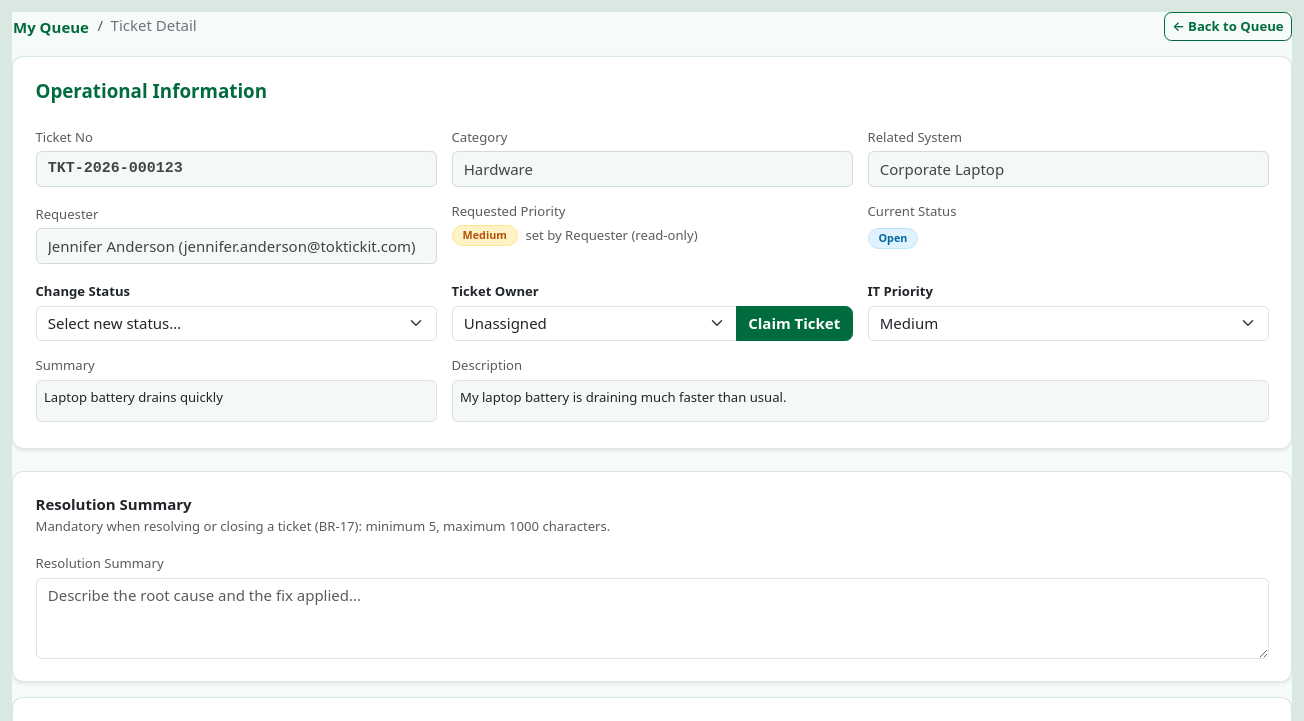
Scenario: StaffTicketDetail Screen — IT Staff control panel (/staff/tickets/:id) › requires a resolution summary before resolving (BR-17)
Select "Resolved" in the dropdown labelled "Change Status" at (236,323), box [36,306,436,341]
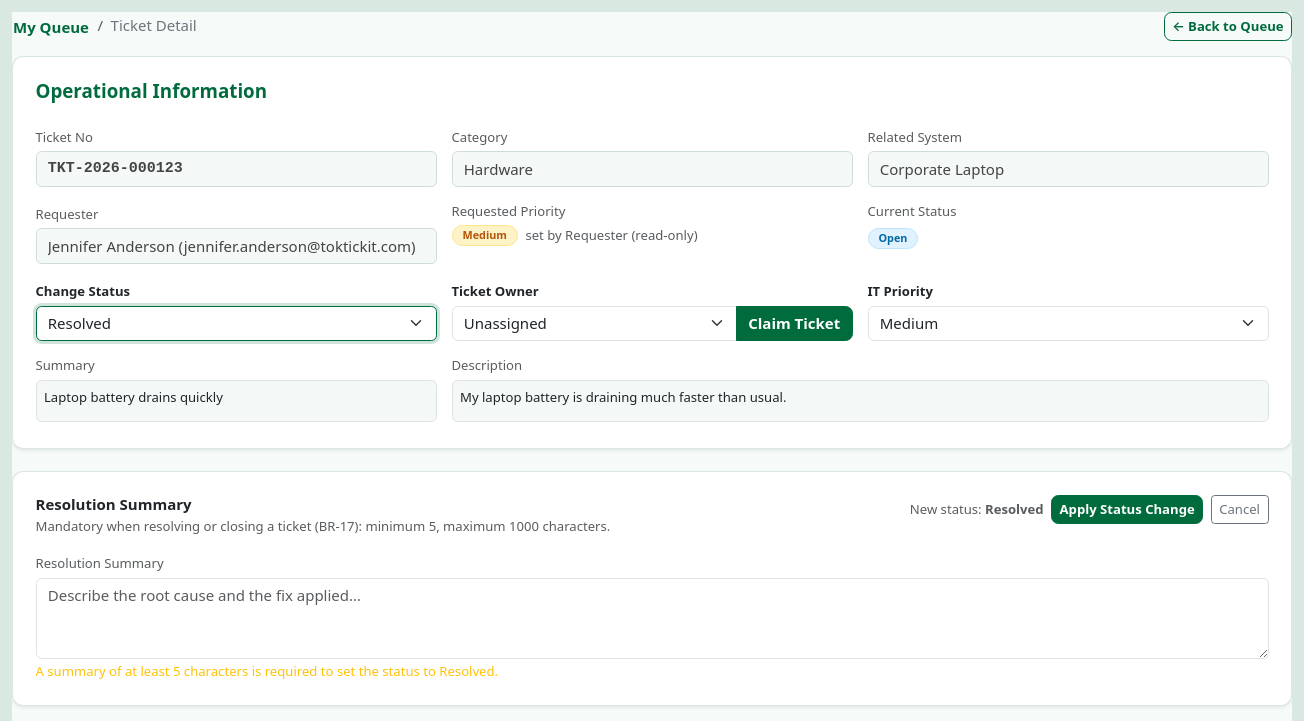
Click the button "Apply Status Change".
click(1127, 510)  # box [1051,495,1203,524]
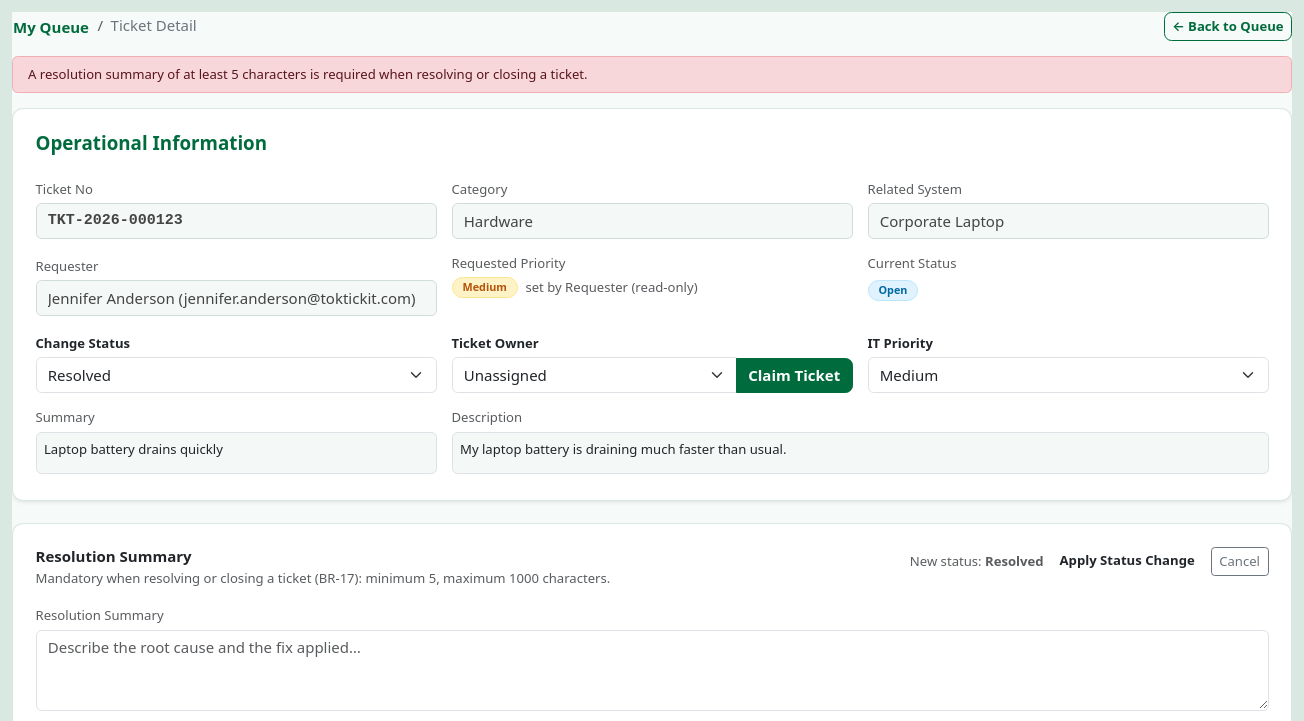
Expected: the message with test id "staff-action-error" shows "resolution summary", [28,65,588,83]
Note: Supplying a valid summary unblocks the transition.
Type "Replaced faulty battery cell and updated the driver." into the text box labelled "Resolution Summary".
click(652, 670); type("Replaced faulty battery cell and updated the driver.")  # box [36,630,1268,710]
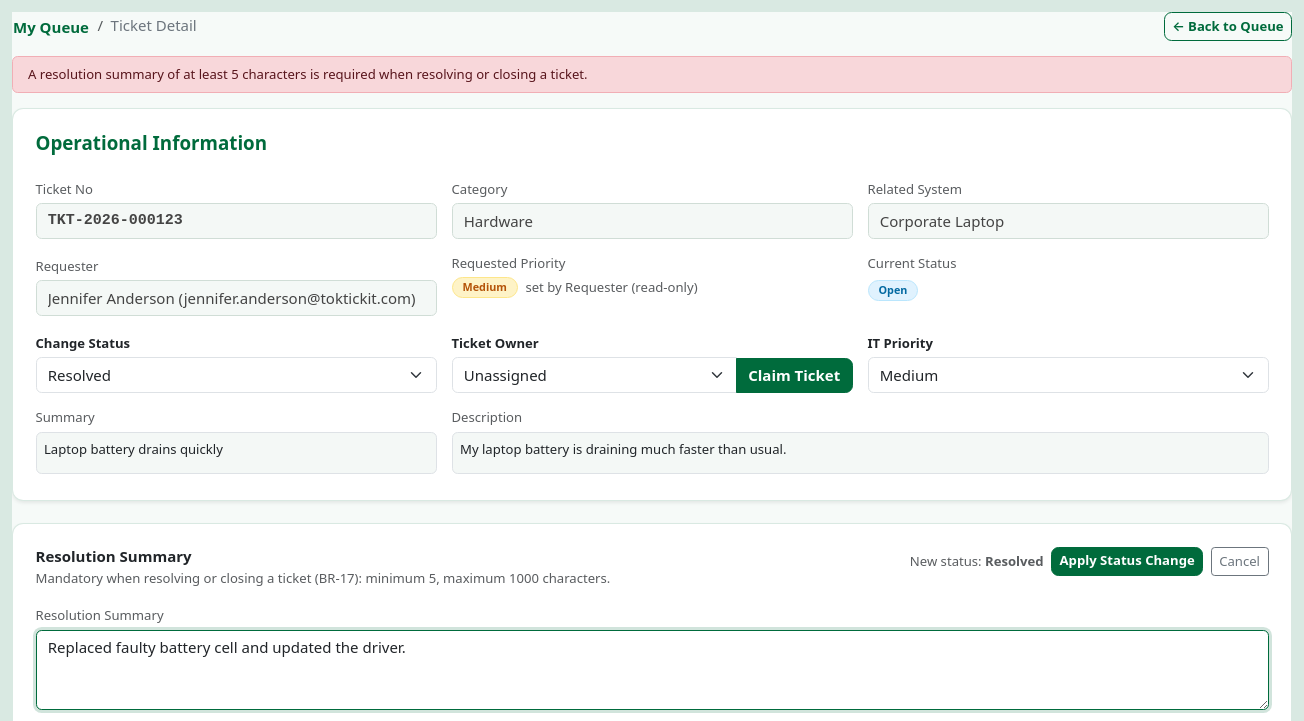
Click the button "Apply Status Change".
click(1127, 561)  # box [1051,547,1203,576]
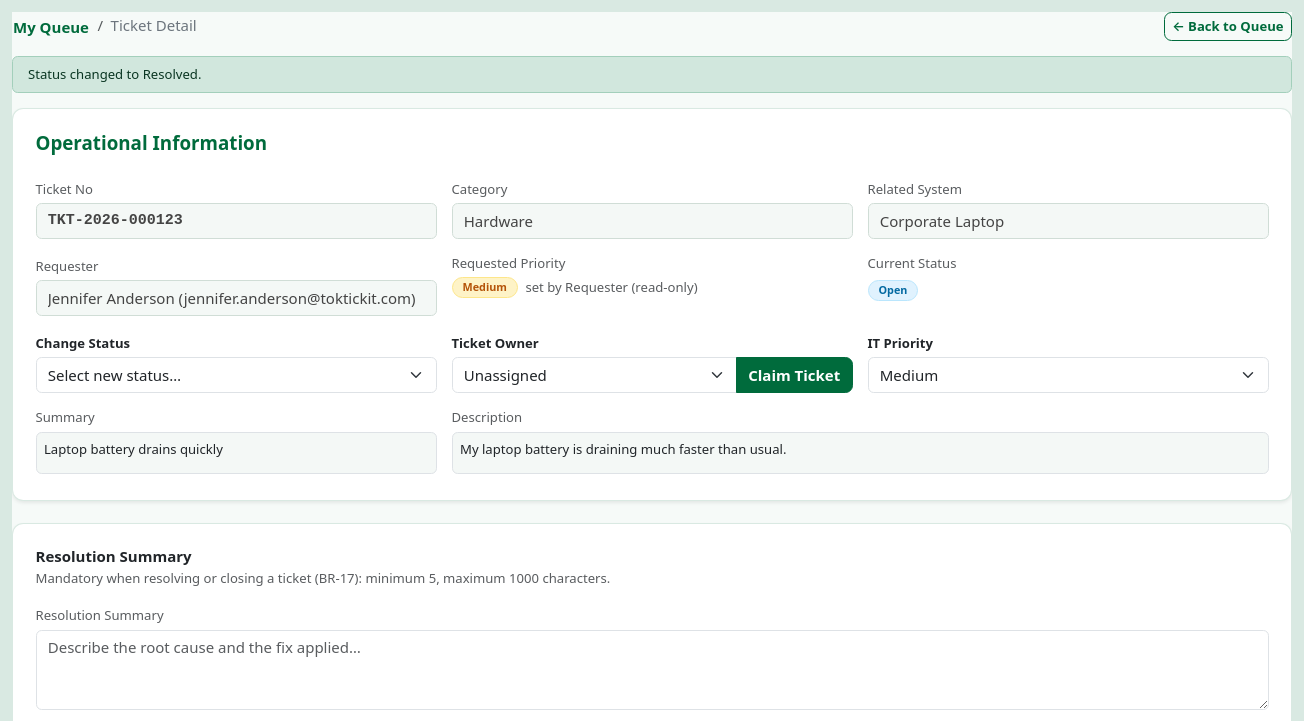
Expected: the message "Status changed to Resolved." is shown, [12,56,1292,93]
